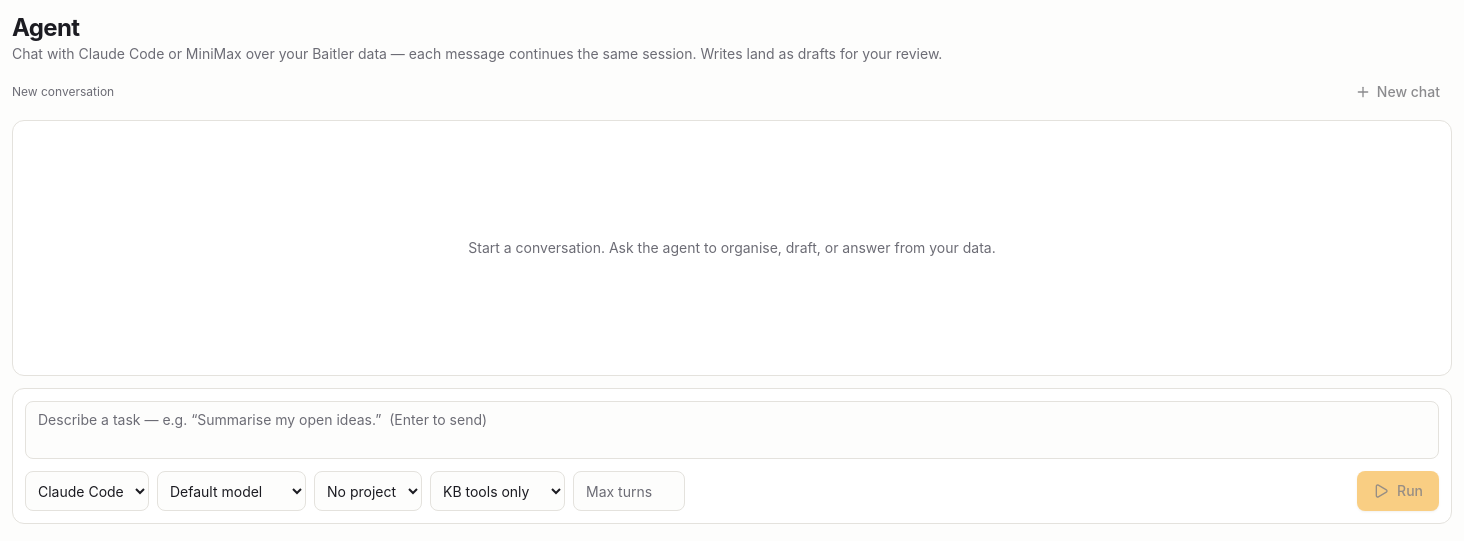
Test: AgentPage › runs a task and renders the streamed transcript
The image size is (1464, 541).
Type "Document my project" into the text box labelled "task" at (732, 430), box x1=25 y1=401 x2=1439 y2=459
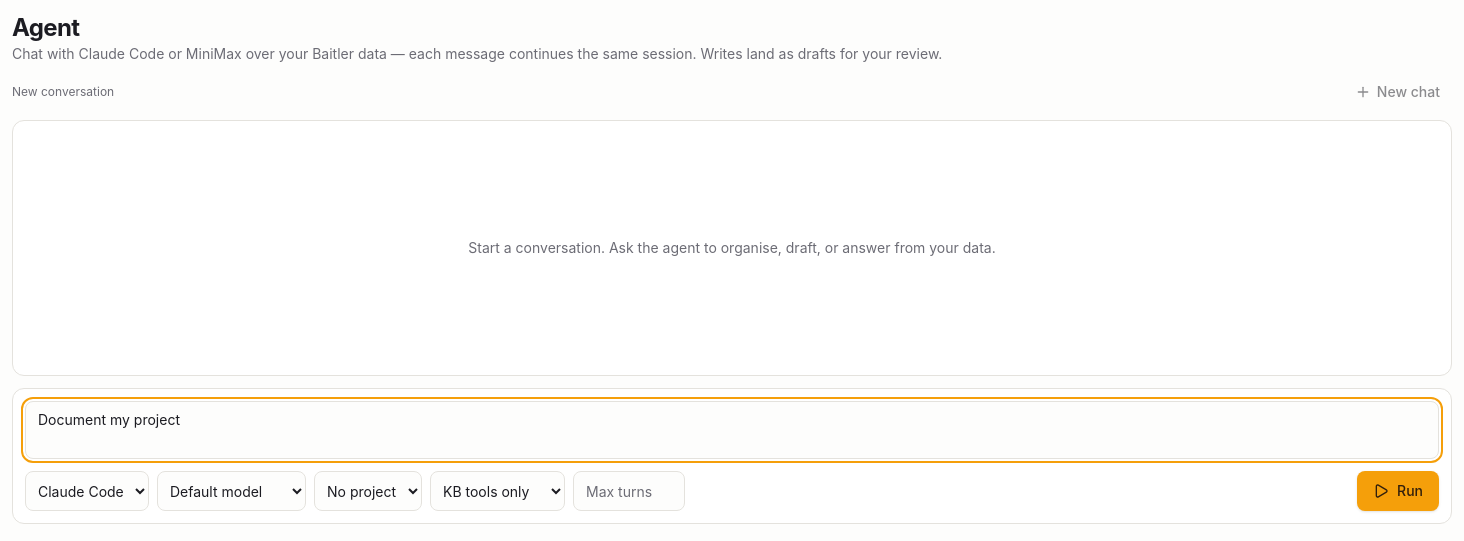
Click the button "Run" at (1398, 491), box x1=1357 y1=471 x2=1439 y2=511
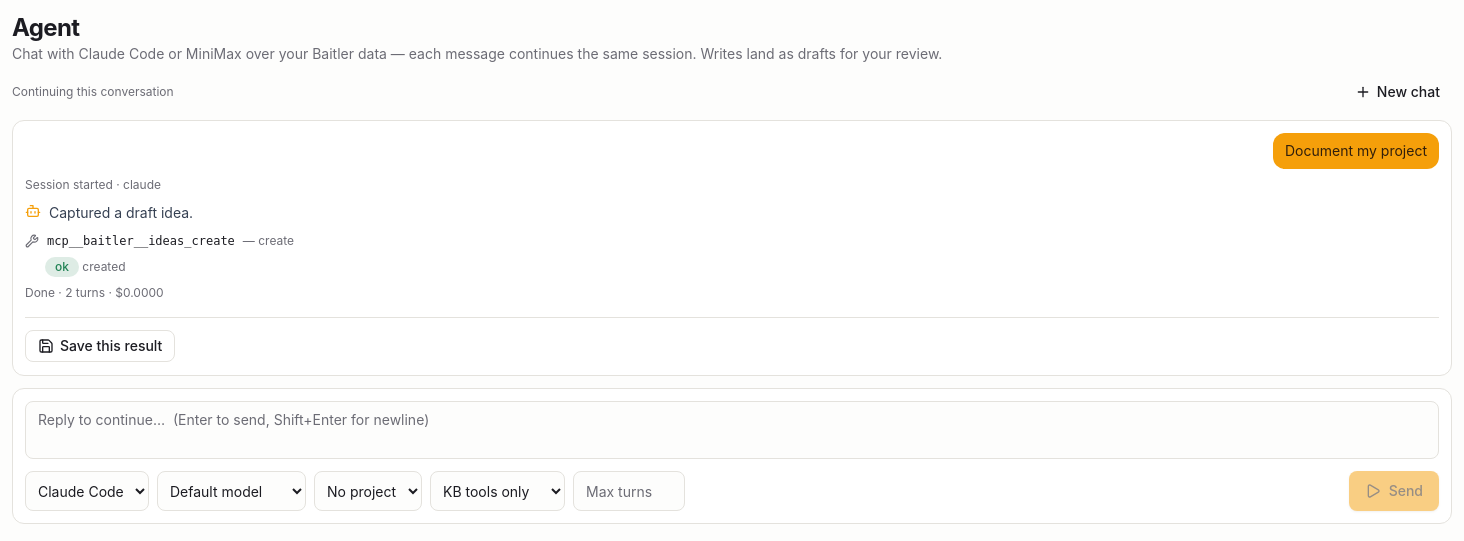
Result: the text "Captured a draft idea." is shown at x1=49 y1=201 x2=193 y2=225
Result: the text "mcp__baitler__ideas_create" is shown at x1=47 y1=233 x2=235 y2=249
Result: the button "Save this result" is shown at x1=25 y1=330 x2=175 y2=362
